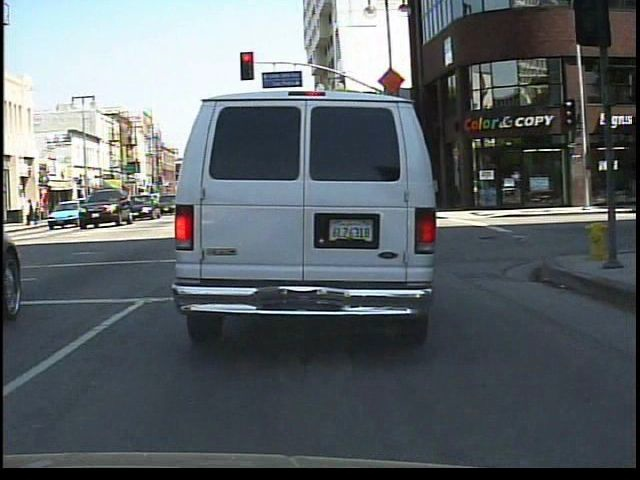person: (25, 197, 39, 229)
